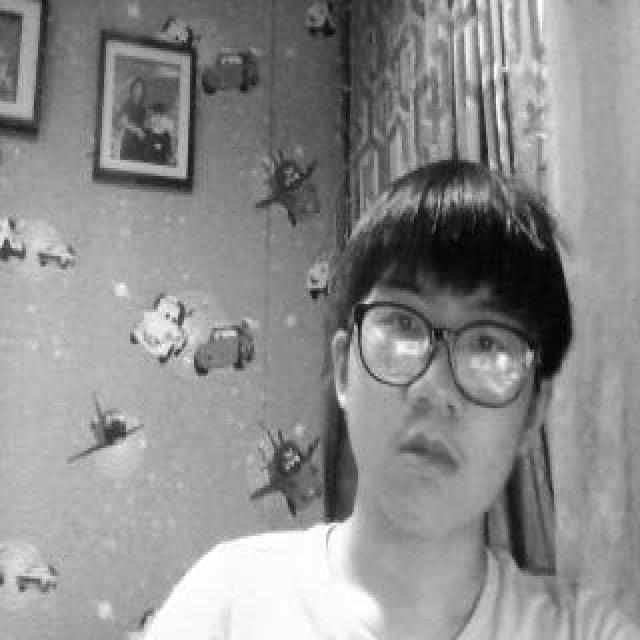Focused: (333, 164, 551, 524)
